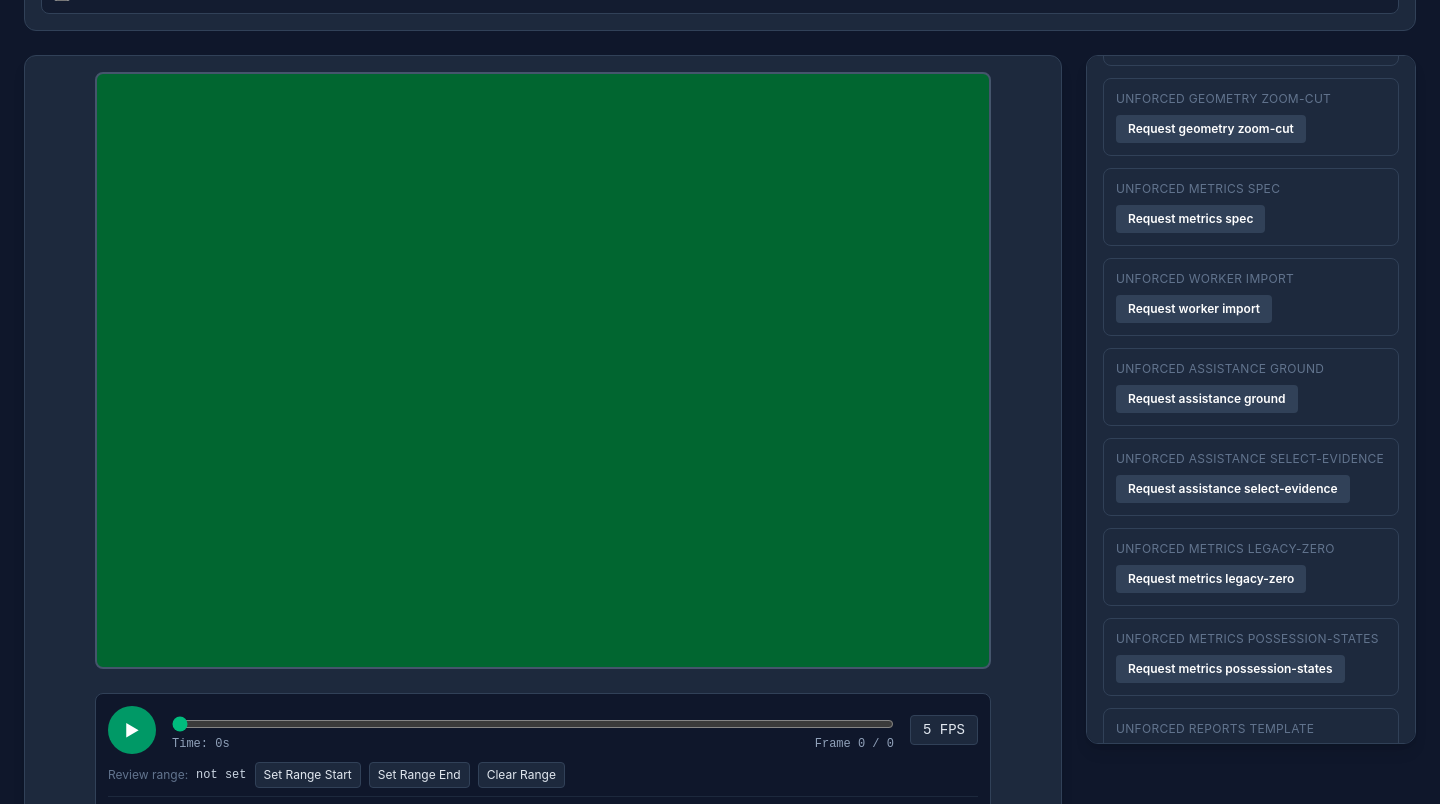
App leftover HTTP surfaces › posts assistance ground, select-evidence, and metrics legacy-zero without leftover fabricated evidence, claimedIds, or measured true
(page scrolled)
Click the button "Request assistance ground".
click(1207, 399)  # box [1116,385,1298,413]
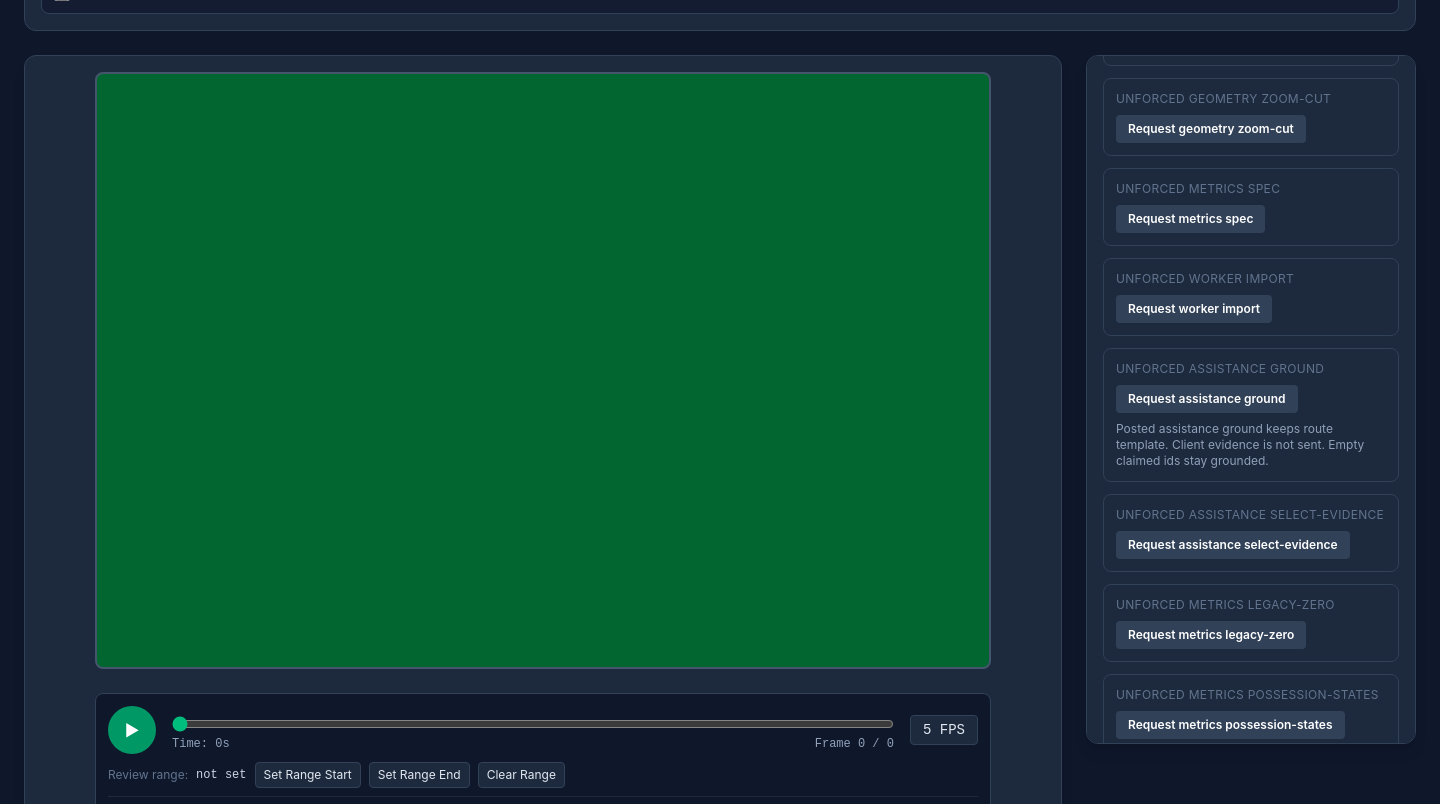
Click the button "Request assistance select-evidence".
click(1233, 545)  # box [1116,531,1350,559]
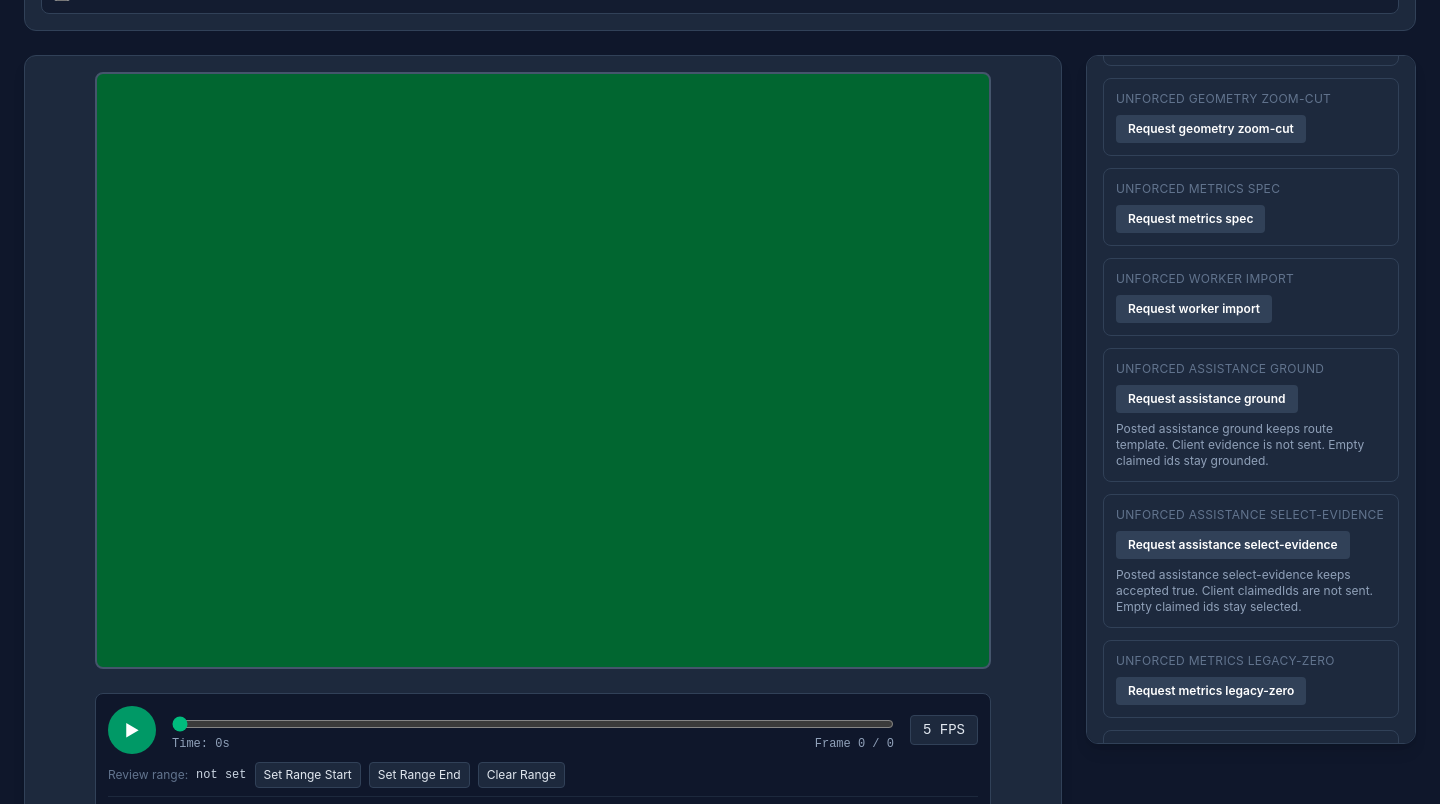
Click the button "Request metrics legacy-zero".
click(1211, 691)  # box [1116,677,1306,705]
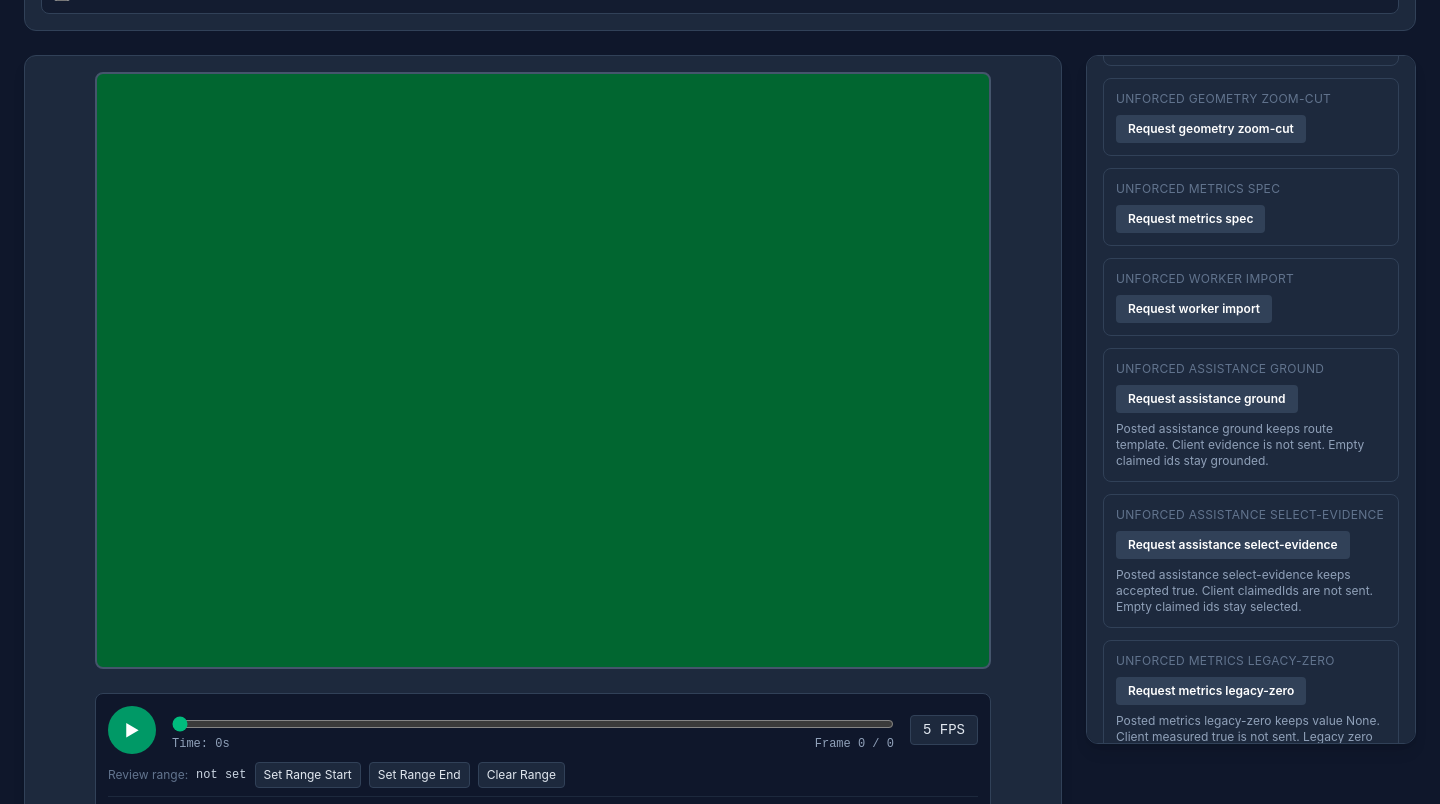
Result: the text "empty claimed ids stay grounded" is shown at [1116,421,1364,468]
Result: the text "empty claimed ids stay selected" is shown at [1116,567,1373,614]
Result: the text "legacy zero stays unmeasured" is shown at [1116,713,1380,744]
